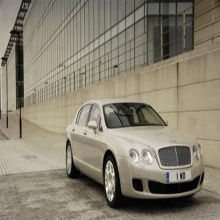no damage: (64, 99, 206, 207)
